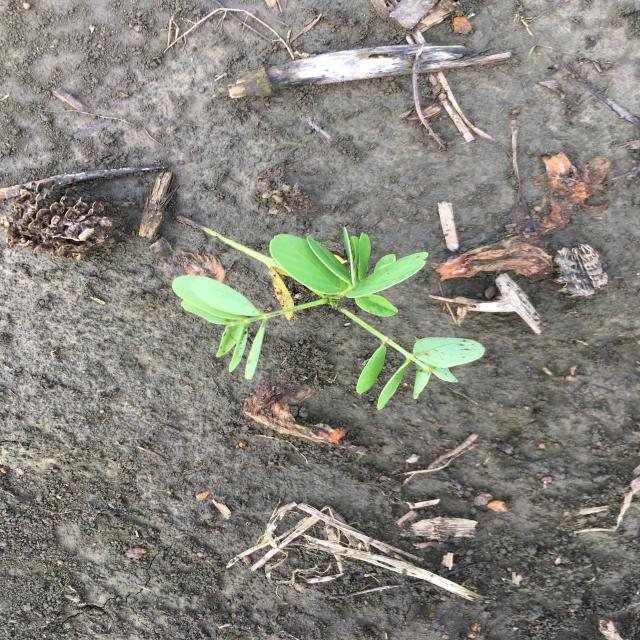Sicklepod: (170, 216, 489, 413)
